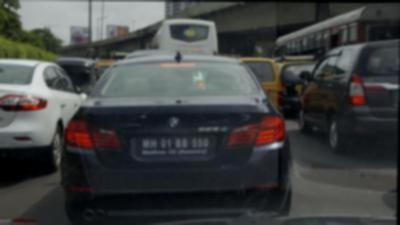License_Plate: (132, 134, 215, 159)
